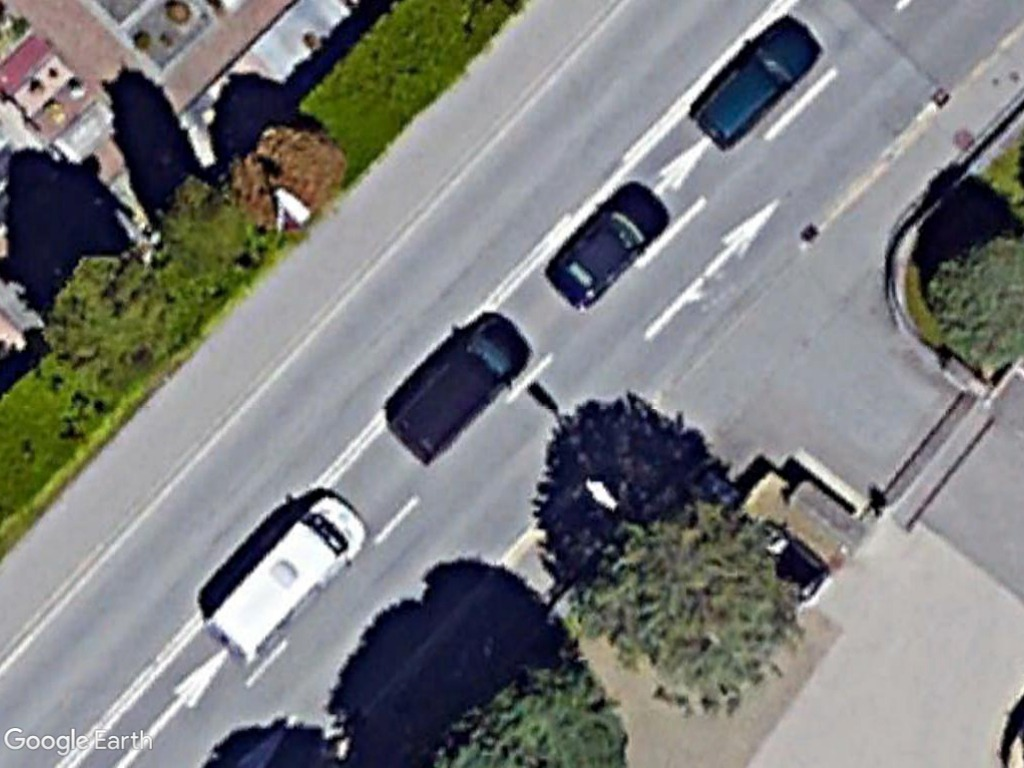car: (686, 27, 829, 150), (544, 178, 667, 309)
van: (200, 491, 374, 671), (389, 313, 533, 467)
